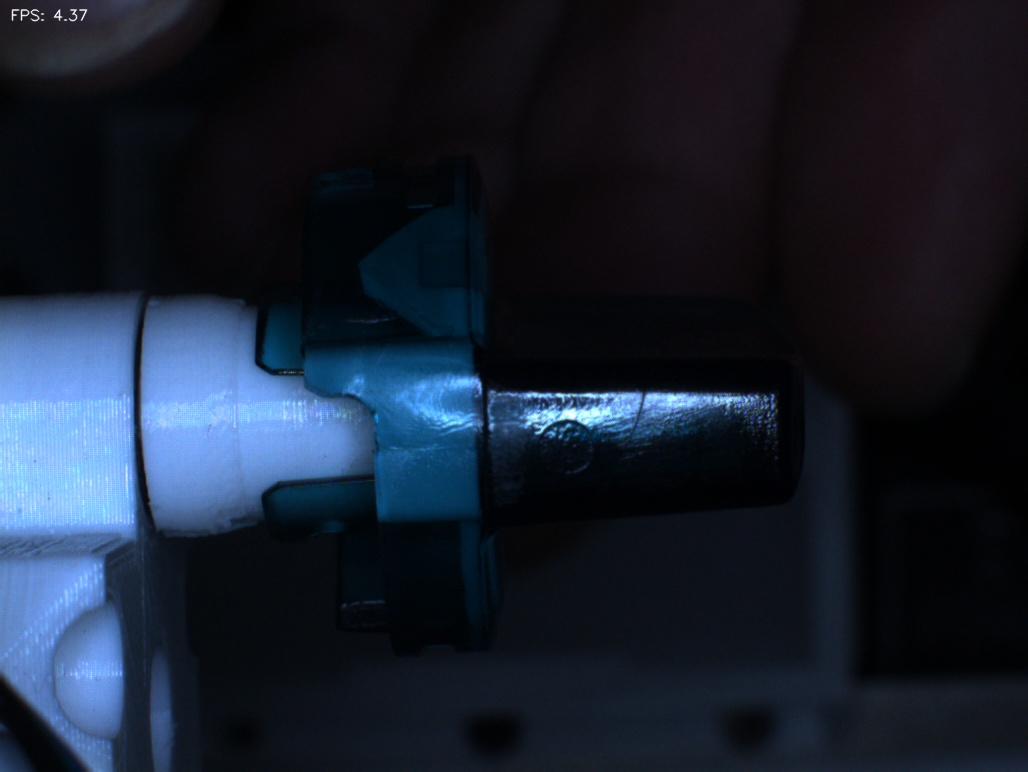DentOk: (327, 223, 410, 328)
